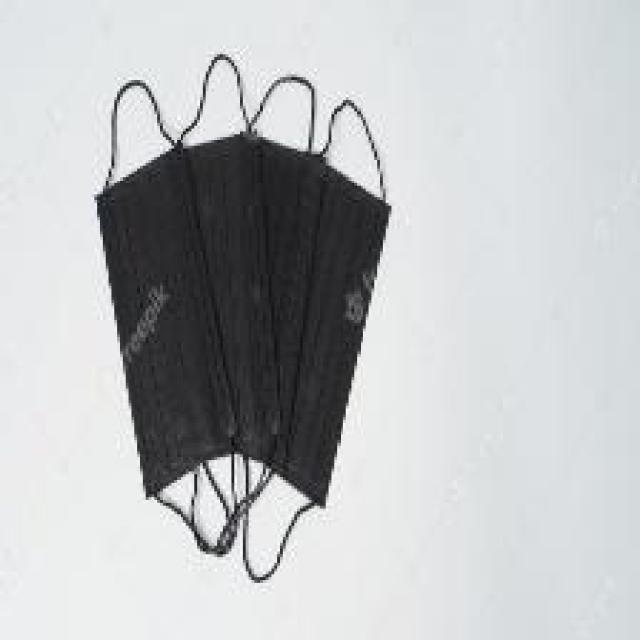Mask: (68, 77, 423, 559)
